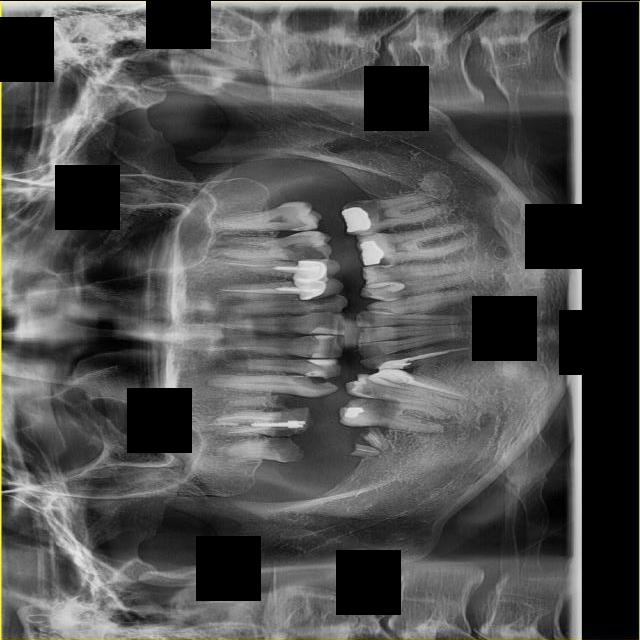71: (246, 420, 307, 428), (271, 263, 318, 273), (274, 286, 322, 293)
72: (356, 420, 392, 454), (292, 374, 339, 394), (222, 393, 288, 407), (348, 442, 380, 459)
74: (404, 377, 464, 399), (401, 344, 473, 362), (225, 424, 275, 435), (216, 414, 274, 421), (221, 288, 298, 293), (227, 262, 268, 267), (204, 421, 238, 425)
NucleOSS Implant: (341, 205, 372, 232), (360, 239, 385, 265), (343, 405, 364, 419)
Sterngold Implant: (261, 427, 308, 471), (343, 396, 403, 421), (343, 189, 389, 221), (280, 242, 331, 261), (354, 381, 400, 402), (264, 422, 309, 439), (269, 406, 309, 423), (369, 253, 394, 272), (368, 262, 391, 274), (294, 226, 309, 230)
Straumann Implant: (371, 362, 416, 386), (365, 277, 405, 294), (303, 294, 340, 307), (378, 357, 409, 371), (306, 358, 340, 367), (307, 304, 341, 313), (309, 349, 336, 359), (304, 369, 330, 376), (312, 334, 340, 339)
Zimmer Implant: (290, 256, 342, 283), (294, 275, 344, 301)
